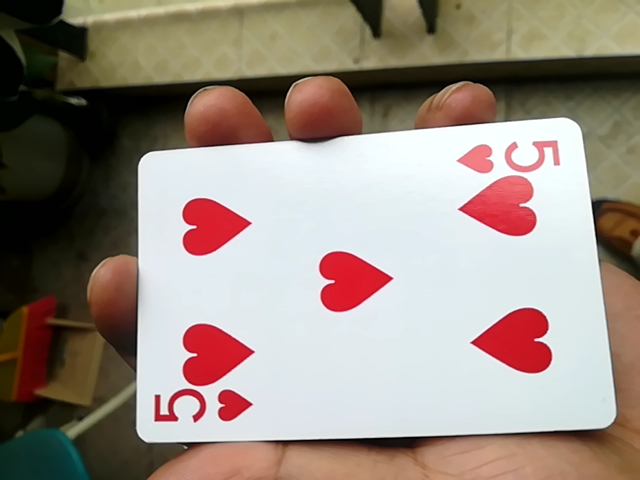hx 5: (129, 120, 606, 450)
